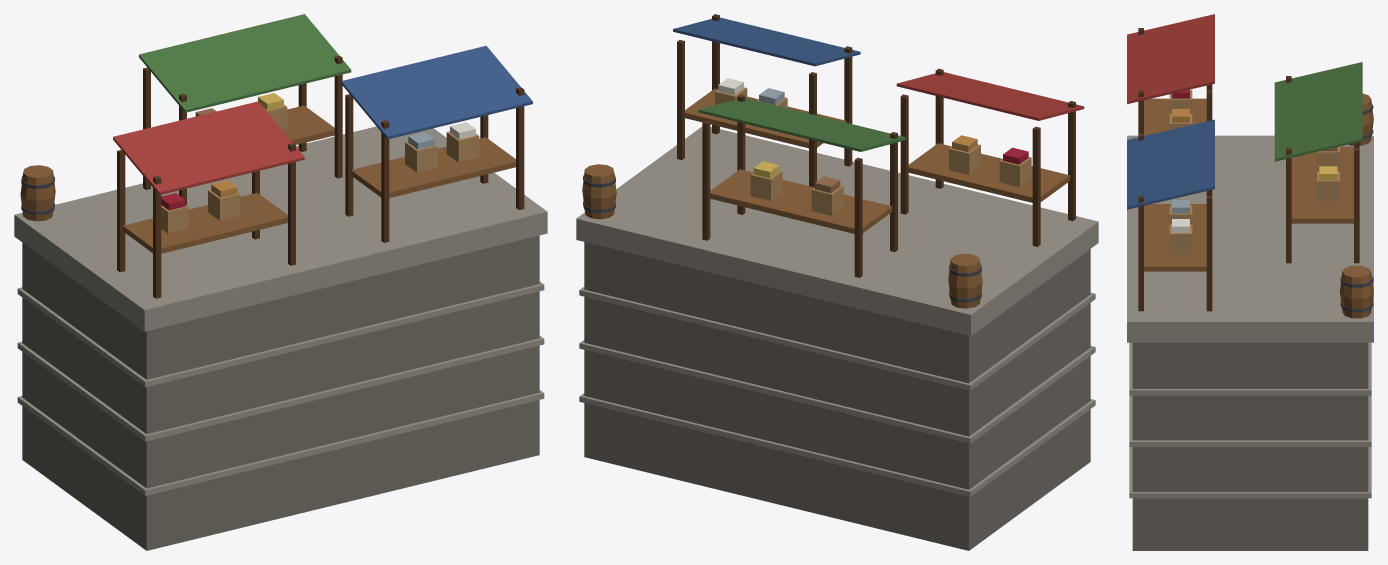
Rendered from market.glb.
The picture shows the model from 3 angles, left to right: view 1: azimuth 30°, elevation 25°; view 2: azimuth 150°, elevation 25°; view 3: azimuth 270°, elevation 25°; orthographic projection. The views are drawn at different scales.
Visible parts, largest first — view 1: market; view 2: market; view 3: market.
Part boxes in pixels (left/top/right/bottom): market: left=14, top=14, right=547, bottom=550; market: left=576, top=14, right=1098, bottom=550; market: left=1127, top=14, right=1373, bottom=550.
Size of the model in its own units: 7.77 by 7 by 4.35.
